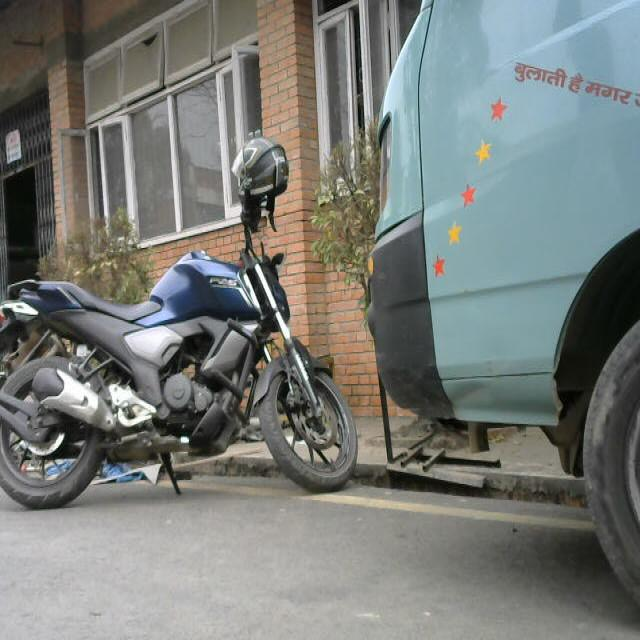Bike: (0, 146, 367, 543)
Buildings: (5, 0, 388, 321)
Vehicle: (381, 0, 640, 630)
